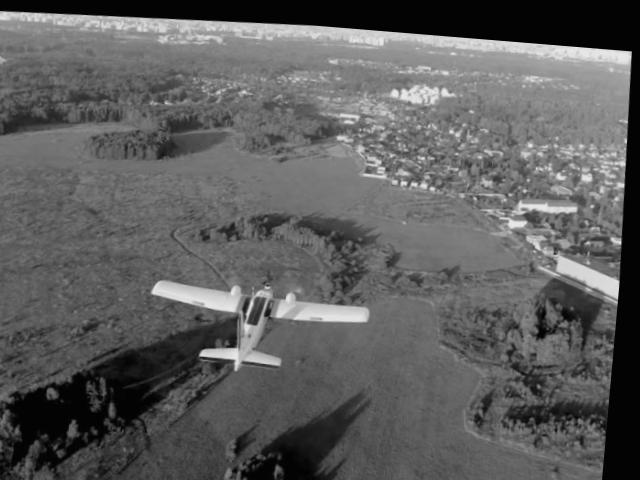hedef: (145, 261, 383, 393)
